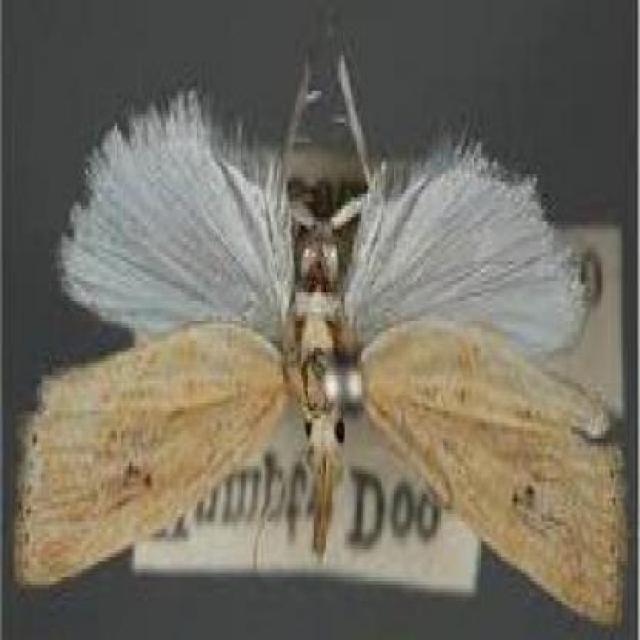stem-borer: (11, 33, 631, 626)
